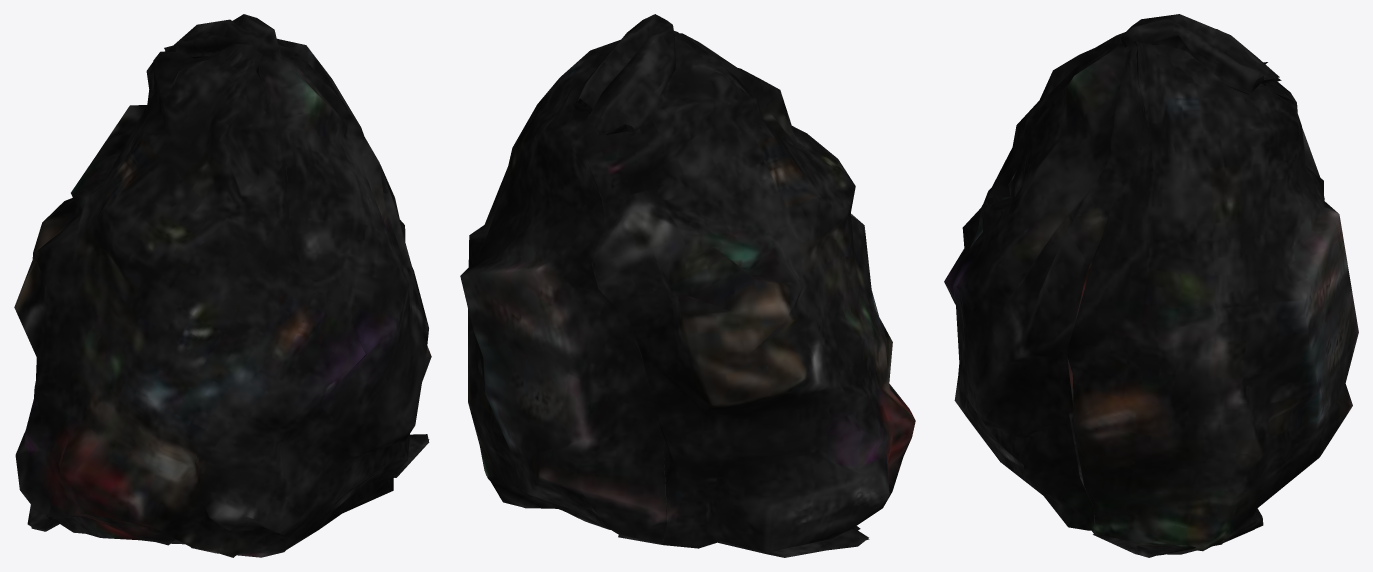
File: trashbag.glb
3 renders of one model, left to right at view 1: azimuth 30°, elevation 25°; view 2: azimuth 150°, elevation 25°; view 3: azimuth 270°, elevation 25°, orthographic.
Parts seen in each view (by area): view 1: trashbag; view 2: trashbag; view 3: trashbag.
Boxes of the visible parts, x1,y1,x2,y2 form: trashbag: (14,14,431,557); trashbag: (460,14,915,557); trashbag: (944,14,1358,557).
Bounding box in the file's own units: 0.5233 × 0.5749 × 0.466.
Materials: 1 (1 with a texture image).
